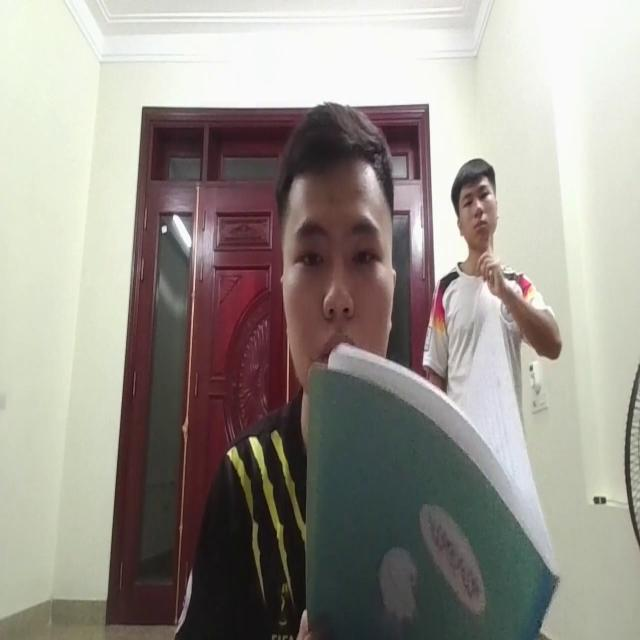book: (303, 329, 547, 639)
extra_person: (428, 142, 518, 322)
student: (273, 78, 393, 401)
